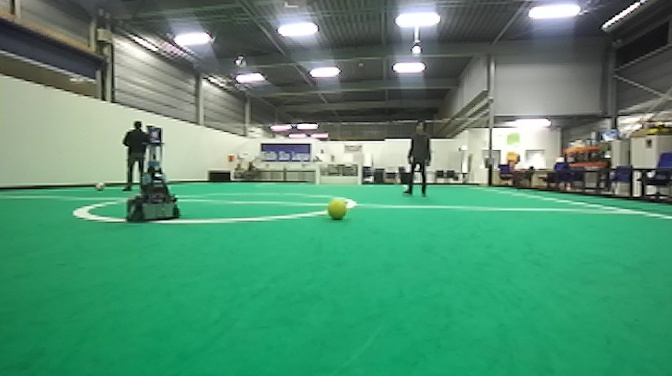ball: (324, 195, 352, 224), (94, 178, 107, 191)
goal: (312, 158, 365, 188)
goalpost: (312, 160, 323, 188), (355, 159, 364, 189)
human: (402, 115, 436, 199), (121, 120, 150, 193)
robot: (122, 137, 183, 226)
